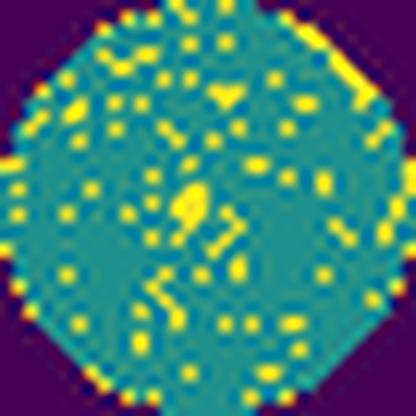Center: (164, 178, 212, 243)
